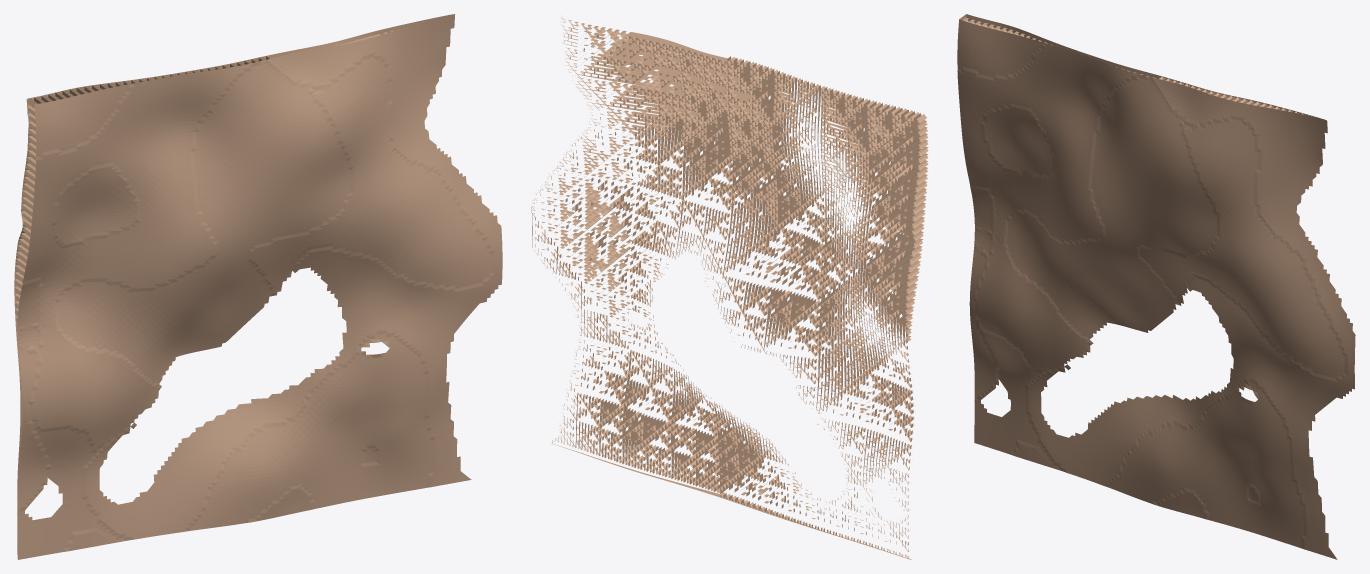
The picture shows the model from 3 angles, left to right: view 1: azimuth 30°, elevation 25°; view 2: azimuth 150°, elevation 25°; view 3: azimuth 330°, elevation 25°; orthographic projection. The views are drawn at different scales.
Parts seen in each view (by area): view 1: world; view 2: world; view 3: world.
Part boxes in pixels (bbox=[...]): world: bbox=[14, 14, 502, 559]; world: bbox=[531, 15, 928, 559]; world: bbox=[957, 14, 1355, 559].
Bounding box in the file's own units: 12800 × 12800 × 2180.
